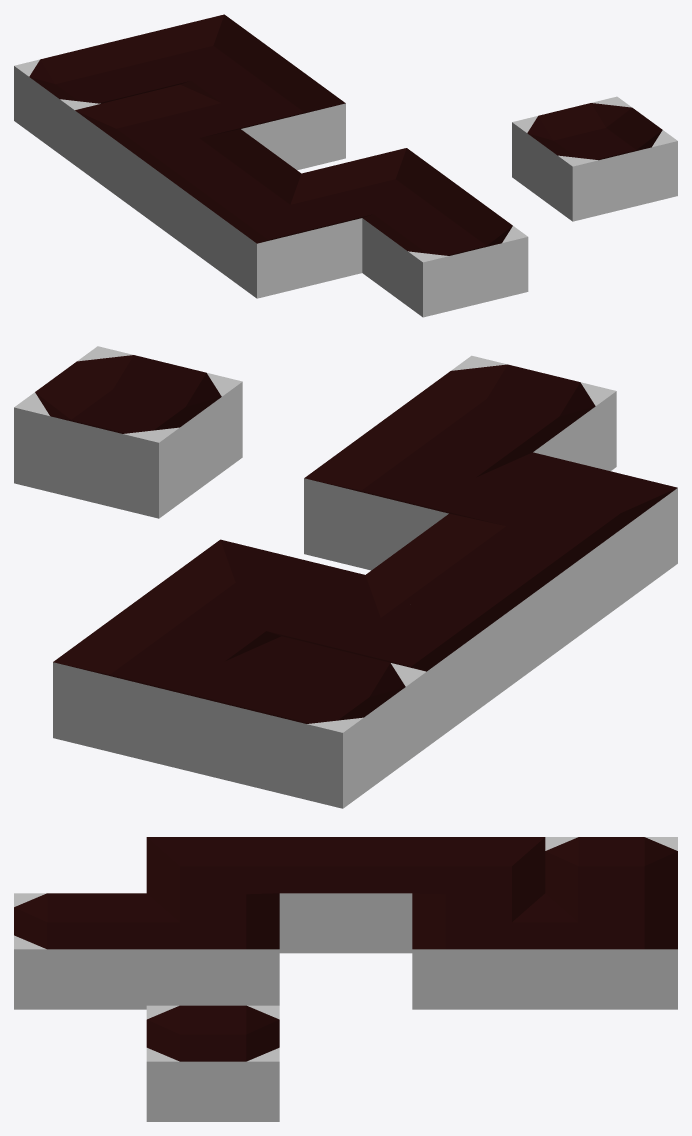
Rendered from 43f_path.obj.
3 renders of one model, top to bottom at view 1: azimuth 30°, elevation 25°; view 2: azimuth 150°, elevation 25°; view 3: azimuth 270°, elevation 25°, orthographic. The views are drawn at different scales.
Visible parts, largest first — view 1: foil.hole.3.1_Cube.087, foil.ending.1.0_ending.172, foil.corner.0.1_corner.429, foil.corner.0.3_corner.430, foil.corner.1.3_corner.432, foil.through.0.2_through.085, foil.ending.0.4_ending.171, foil.corner.1.1_corner.431, foil.corner.1.4_corner.433; view 2: foil.hole.3.1_Cube.087, foil.ending.0.4_ending.171, foil.corner.1.4_corner.433, foil.corner.0.1_corner.429, foil.corner.1.1_corner.431, foil.through.0.2_through.085, foil.ending.1.0_ending.172, foil.corner.1.3_corner.432, foil.corner.0.3_corner.430; view 3: foil.hole.3.1_Cube.087, foil.through.0.2_through.085, foil.ending.1.0_ending.172, foil.corner.1.3_corner.432, foil.corner.1.4_corner.433, foil.corner.1.1_corner.431, foil.corner.0.1_corner.429, foil.corner.0.3_corner.430, foil.ending.0.4_ending.171.
Boxes of the visible parts, x1=… form: foil.hole.3.1_Cube.087: x1=512, y1=96, x2=677, y2=221; foil.ending.1.0_ending.172: x1=362, y1=192, x2=528, y2=317; foil.corner.0.1_corner.429: x1=196, y1=173, x2=362, y2=298; foil.corner.0.3_corner.430: x1=74, y1=84, x2=240, y2=209; foil.corner.1.3_corner.432: x1=180, y1=59, x2=345, y2=170; foil.through.0.2_through.085: x1=135, y1=129, x2=300, y2=253; foil.ending.0.4_ending.171: x1=14, y1=40, x2=177, y2=164; foil.corner.1.1_corner.431: x1=301, y1=148, x2=467, y2=225; foil.corner.1.4_corner.433: x1=119, y1=14, x2=284, y2=91; foil.hole.3.1_Cube.087: x1=14, y1=346, x2=242, y2=518; foil.ending.0.4_ending.171: x1=198, y1=636, x2=426, y2=808; foil.corner.1.4_corner.433: x1=53, y1=601, x2=281, y2=773; foil.corner.0.1_corner.429: x1=449, y1=452, x2=677, y2=624; foil.corner.1.1_corner.431: x1=304, y1=417, x2=532, y2=570; foil.through.0.2_through.085: x1=366, y1=514, x2=594, y2=685; foil.ending.1.0_ending.172: x1=388, y1=355, x2=616, y2=471; foil.corner.1.3_corner.432: x1=137, y1=539, x2=364, y2=646; foil.corner.0.3_corner.430: x1=284, y1=575, x2=510, y2=746; foil.hole.3.1_Cube.087: x1=146, y1=1005, x2=279, y2=1121; foil.through.0.2_through.085: x1=279, y1=837, x2=412, y2=953; foil.ending.1.0_ending.172: x1=14, y1=893, x2=146, y2=1009; foil.corner.1.3_corner.432: x1=412, y1=893, x2=545, y2=1009; foil.corner.1.4_corner.433: x1=545, y1=893, x2=677, y2=1009; foil.corner.1.1_corner.431: x1=146, y1=893, x2=279, y2=1005; foil.corner.0.1_corner.429: x1=146, y1=837, x2=279, y2=908; foil.corner.0.3_corner.430: x1=412, y1=837, x2=545, y2=908; foil.ending.0.4_ending.171: x1=545, y1=837, x2=677, y2=908.
Bounding box in the file's own units: 8 × 1 × 10.
